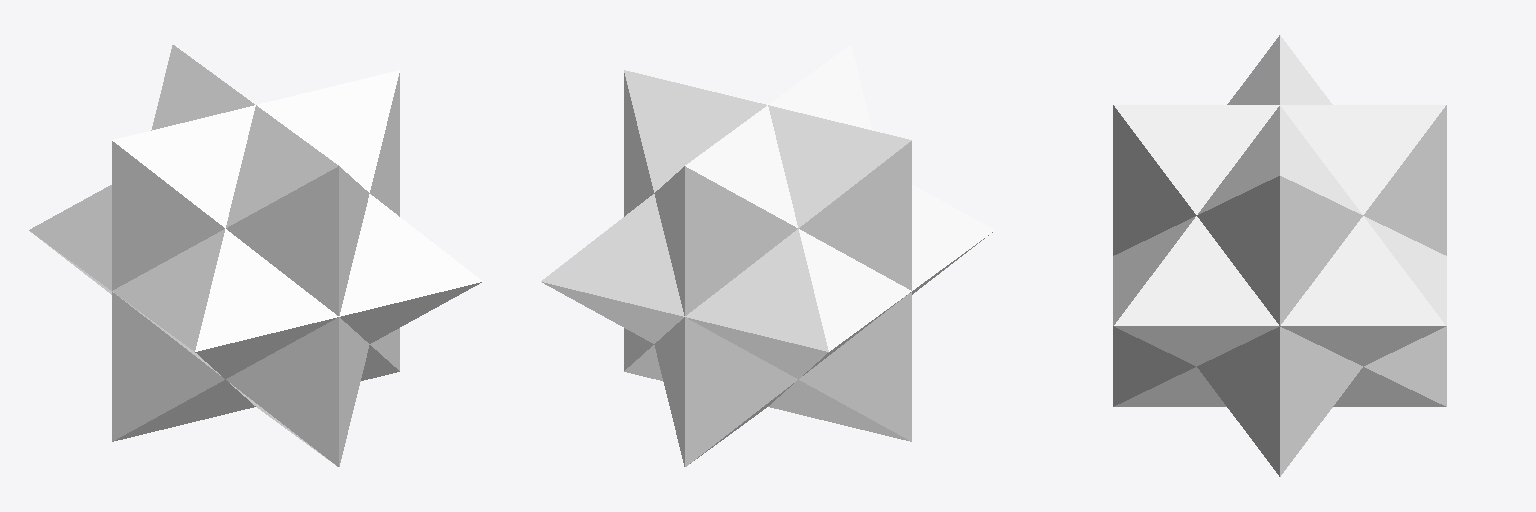
Rendered from _Escher10.obj.
3 views of the same model, side by side, from view 1: azimuth 30°, elevation 25°; view 2: azimuth 150°, elevation 25°; view 3: azimuth 270°, elevation 25° (orthographic).
Bounding box in the file's own units: 2 × 2 × 2.